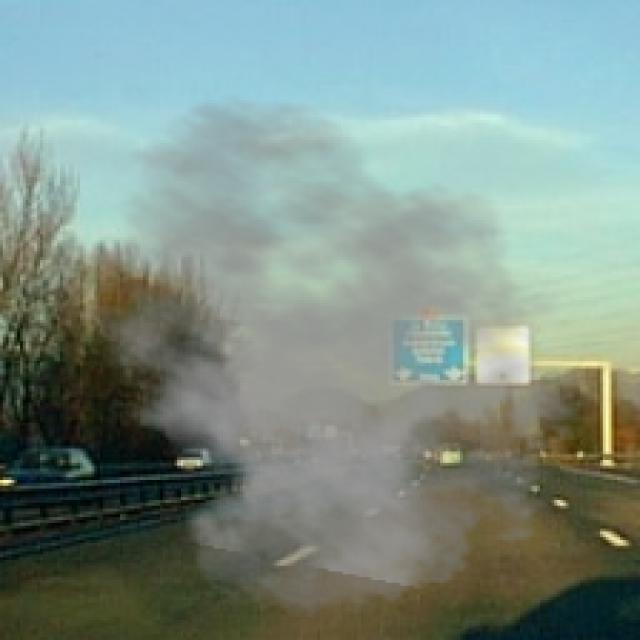smoke: (51, 94, 600, 626)
